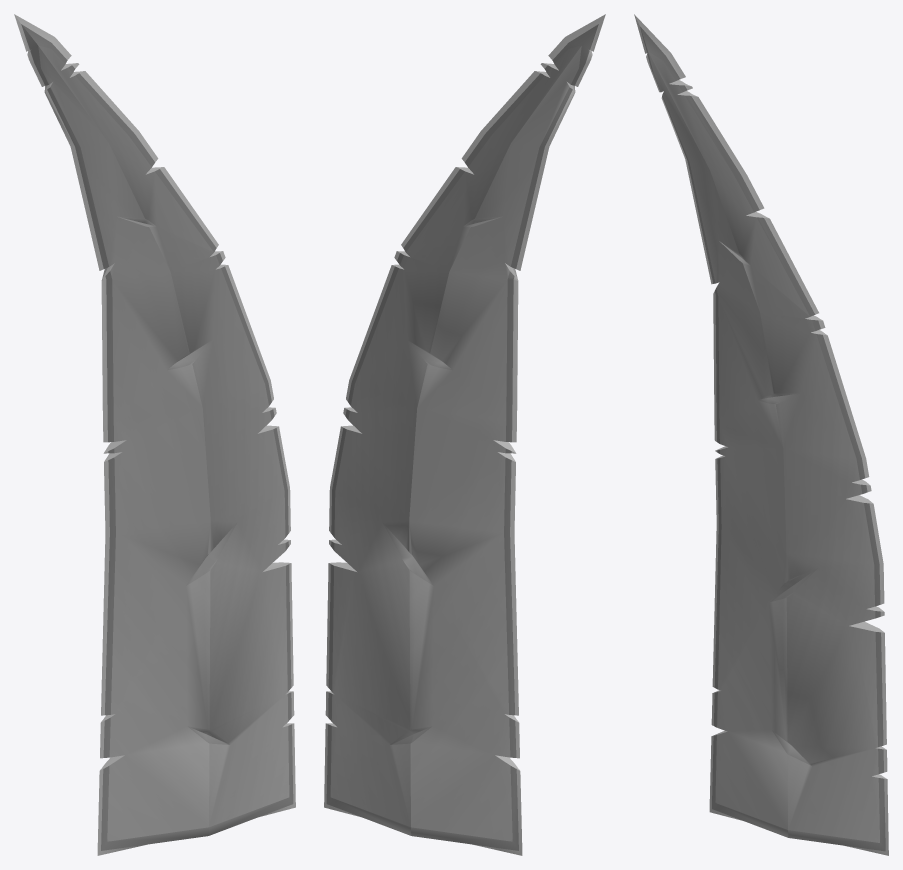
Rendered from stone_blade_scratched_062.glb.
The picture shows the model from 3 angles, left to right: view 1: azimuth 30°, elevation 25°; view 2: azimuth 150°, elevation 25°; view 3: azimuth 330°, elevation 25°; orthographic projection. The views are drawn at different scales.
Visible parts, largest first — view 1: stone_blade_scratched.062; view 2: stone_blade_scratched.062; view 3: stone_blade_scratched.062.
Part boxes in pixels (left/top/right/bottom): stone_blade_scratched.062: left=14, top=14, right=295, bottom=855; stone_blade_scratched.062: left=324, top=14, right=605, bottom=855; stone_blade_scratched.062: left=634, top=14, right=888, bottom=855.
Bounding box in the file's own units: 4.2 × 12.29 × 0.7262.
1 material, 1 textured.
